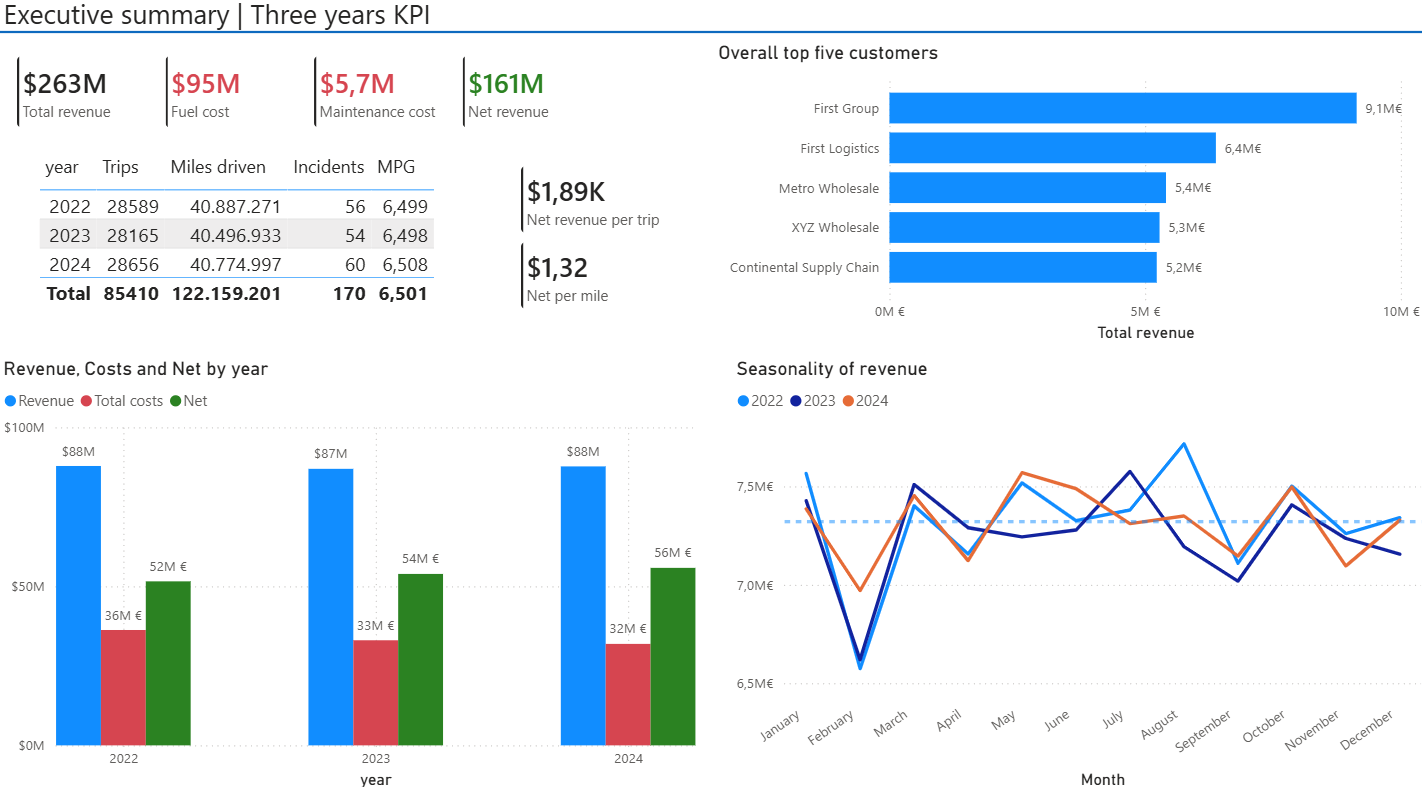

The page's visual inventory and layout, read from the dashboard file:
{"tool":"powerbi","page":{"name":"ES","canvas":[1280,720],"ordinal":0},"visuals":[{"type":"textbox","box":[0,0,1279.7,44.8],"z":0},{"type":"shape","box":[0,32.2,1279.7,12.5],"z":1000},{"type":"cardVisual","fields":{"Data":["Sum(3yr_summary.revenue)","Sum(3yr_summary.fuel_spent)","Sum(3yr_summary.maint_spent)","3yr_summary.net"]},"box":[0,43,561.5,98.5],"z":2000},{"type":"clusteredColumnChart","title":"Revenue, Costs and Net by year","fields":{"Category":["3yr_summary.year"],"Y":["Sum(3yr_summary.revenue)","3yr_summary.Total_costs","3yr_summary.net"]},"box":[0,329.6,629.6,390.4],"z":3000},{"type":"lineChart","title":"Seasonality of revenue","fields":{"Category":["Date.Date.Variation.Date Hierarchy.Month"],"Y":["trip-loads-full-join.Measure","trip-loads-full-join.revenue_2023","trip-loads-full-join.revenue_2024"]},"box":[656.4,329.6,623.3,390.4],"z":4000},{"type":"tableEx","fields":{"Values":["3yr_summary.year","Sum(3yr_summary.Trips)","Sum(3yr_summary.Miles)","Sum(3yr_summary.Incidents)","Avg(3yr_summary.avg_mpg)"]},"box":[31.3,141.5,376.1,163],"z":5000},{"type":"cardVisual","fields":{"Data":["3yr_summary.revenue_per_trip","3yr_summary.Net_per_mile"]},"box":[451.3,141.5,170.1,162.1],"z":6000},{"type":"clusteredBarChart","title":"Overall top five customers","fields":{"Category":["trip-loads-full-join.customer_name"],"Y":["Sum(trip-loads-full-join.revenue)"]},"box":[640.3,46.6,639.4,274],"z":7000}]}

Visuals, with their boxes in screenshot pixels (x1, y1, x2, y2), scaled from the page's 1280x720 canvas onto the 1422x789 screenshot:
textbox: 0 0 1421 49
shape: 0 35 1421 49
cardVisual - Sum(3yr_summary.revenue) x Sum(3yr_summary.fuel_spent): 0 47 624 155
"Revenue, Costs and Net by year" clusteredColumnChart: 0 361 699 788
"Seasonality of revenue" lineChart: 729 361 1421 788
tableEx - 3yr_summary.year x Sum(3yr_summary.Trips): 35 155 453 334
cardVisual - 3yr_summary.revenue_per_trip x 3yr_summary.Net_per_mile: 501 155 690 333
"Overall top five customers" clusteredBarChart: 711 51 1421 351
